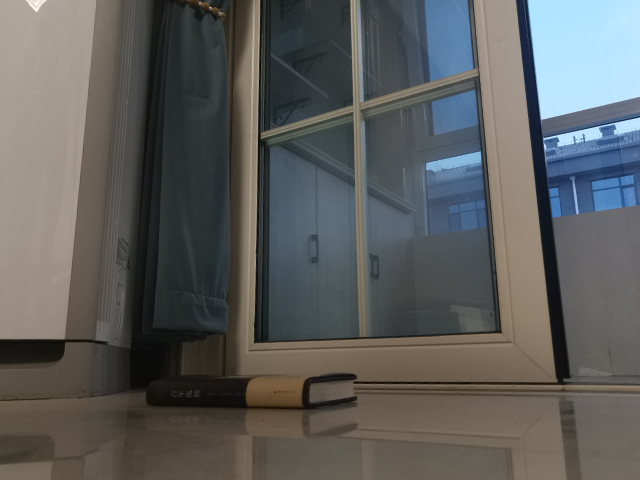book: (144, 370, 359, 411)
cabinet: (263, 129, 420, 342)
curtain: (130, 1, 233, 344)
